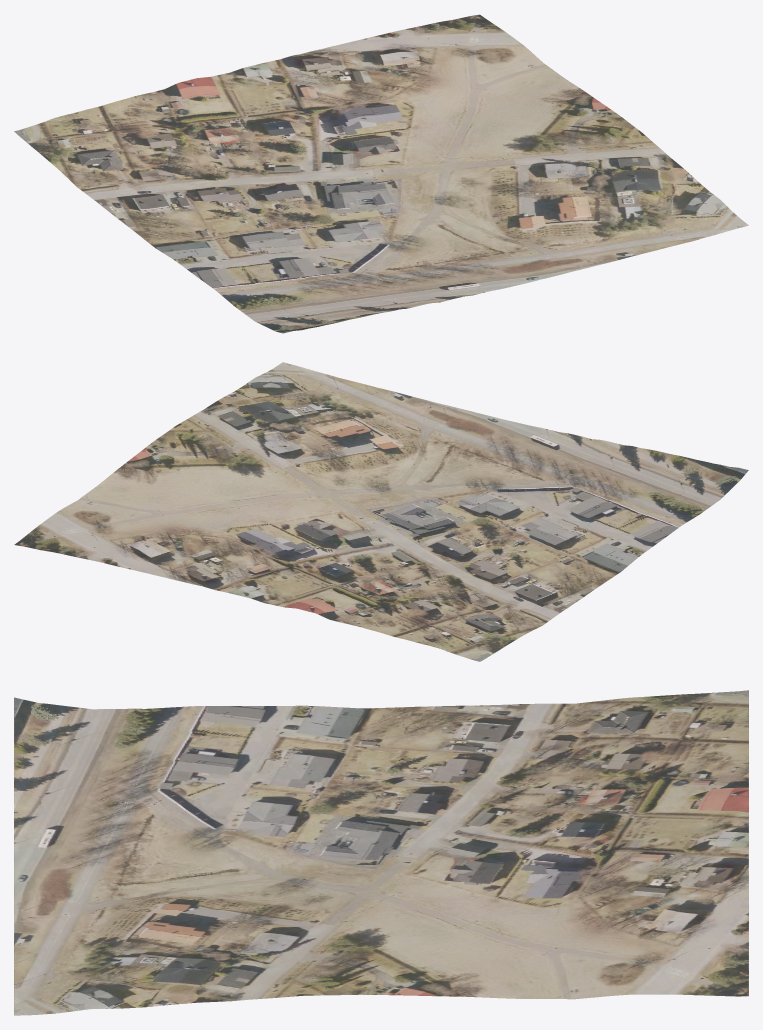
The model's file is CM_Terrain_24491482_6820408.fbx.
The picture shows the model from 3 angles, top to bottom: view 1: azimuth 30°, elevation 25°; view 2: azimuth 150°, elevation 25°; view 3: azimuth 270°, elevation 25°; orthographic projection. The views are drawn at different scales.
Visible parts, largest first — view 1: CM_Terrain_24491482_6820408_LOD0; view 2: CM_Terrain_24491482_6820408_LOD0; view 3: CM_Terrain_24491482_6820408_LOD0.
Part boxes in pixels (<box>): CM_Terrain_24491482_6820408_LOD0: <box>14,14,748,333</box>; CM_Terrain_24491482_6820408_LOD0: <box>14,362,748,661</box>; CM_Terrain_24491482_6820408_LOD0: <box>14,690,748,1015</box>.
Size of what is drawn, in the model's own units: 205 by 10.85 by 205.
